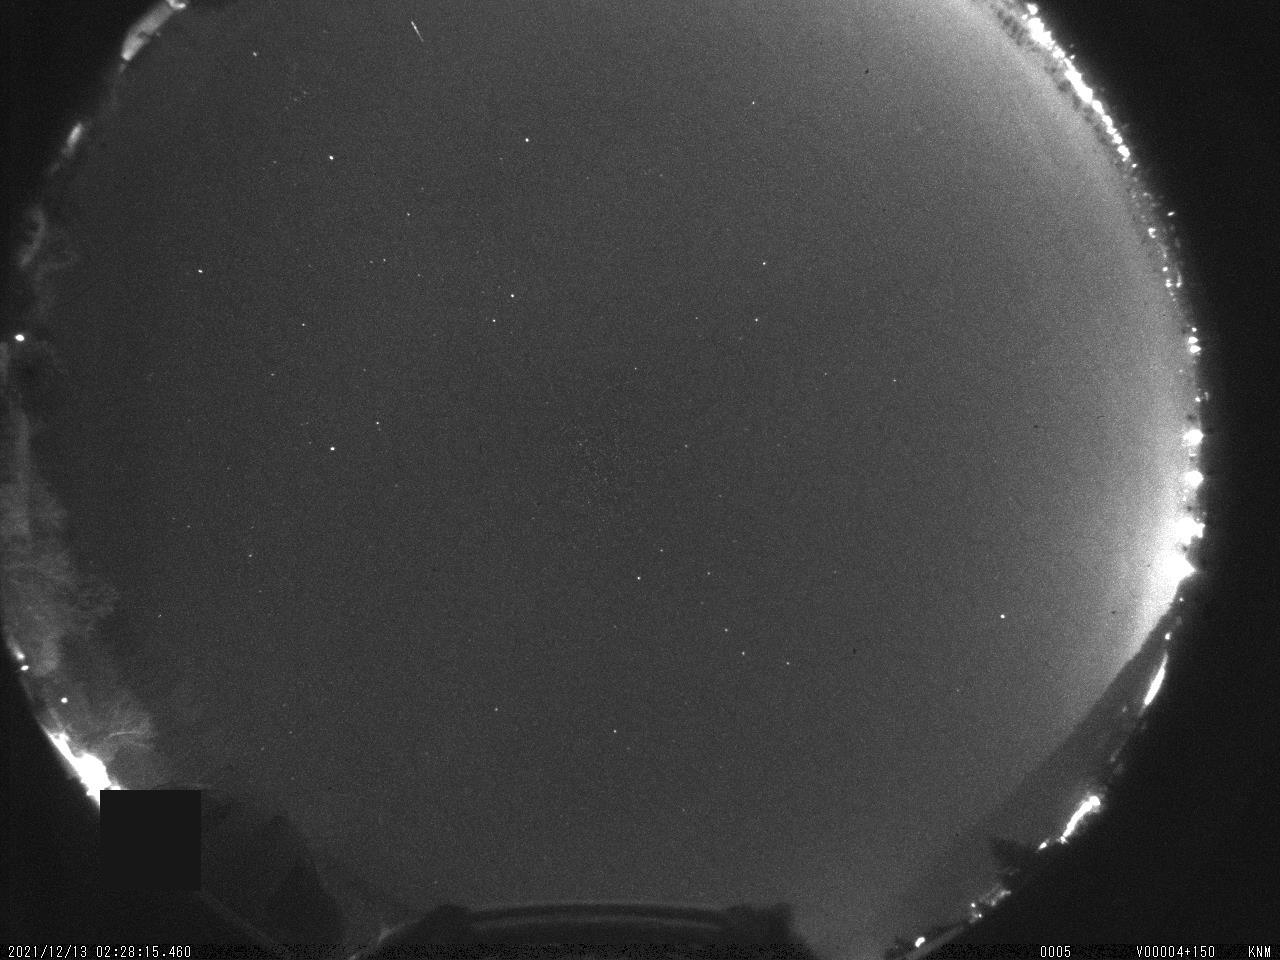meteor: (383, 5, 444, 58)
